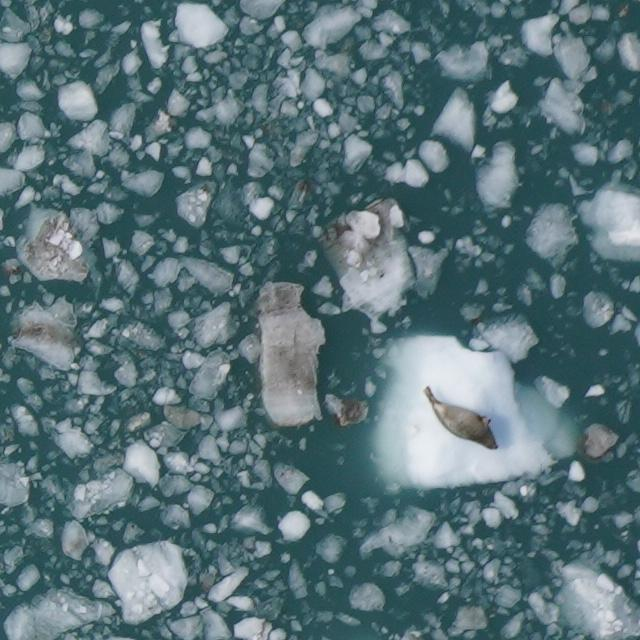seal: (409, 384, 508, 457)
